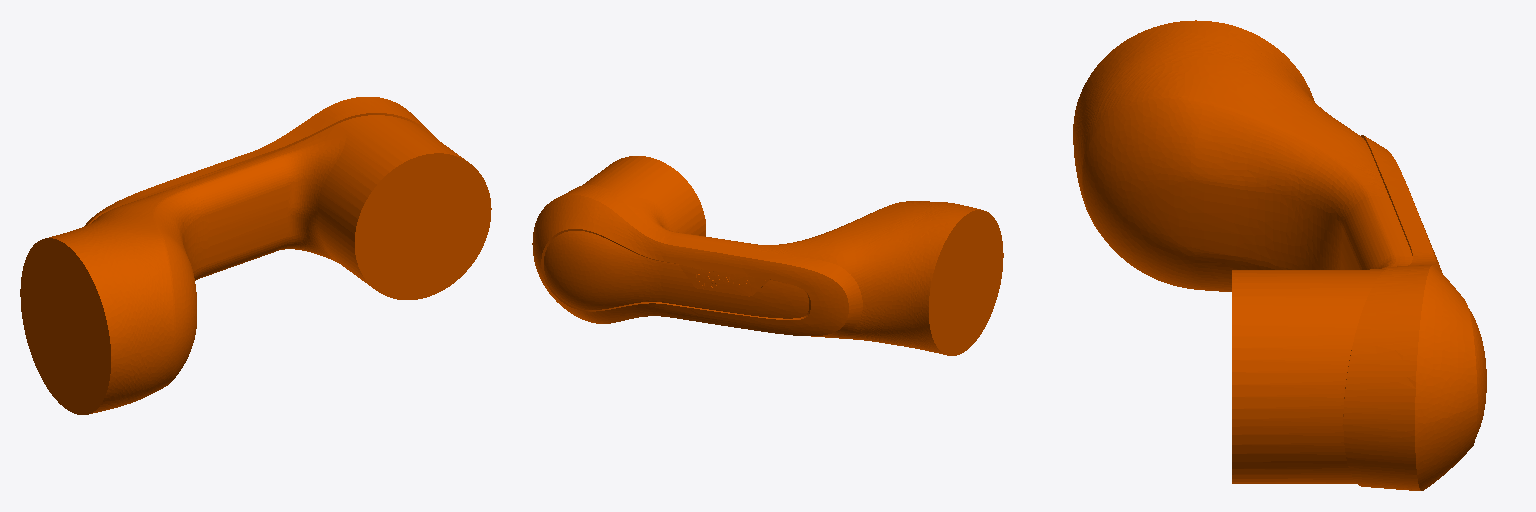
robot.urdf — panda:
<?xml version="1.0" encoding="utf-8"?>
<!-- =================================================================================== -->
<!-- |    This document is a hand edited version of the output autogenerated by xacro  | -->
<!-- |    from panda_arm_hand.urdf.xacro                                               | -->
<!-- |    The rotor inertias and gear ratios have been picked so that their            | -->
<!-- |    combination is equal to the reflected rotor interia provided by Franka for   | -->
<!-- |    the FR-3 robots.                                                             | -->
<!-- =================================================================================== -->
<robot xmlns:drake="http://drake.mit.edu" name="panda">
  <link name="panda_link0">
    <inertial>
      <mass value="2.92"/>
      <origin xyz="-0.025566 -2.88e-05 0.057332" rpy="0 0 0"/>
      <inertia ixx="0.00782229414331" ixy="-1.56191622996e-05" ixz="-0.00126005738123" iyy="0.0109027971813" iyz="1.08233858202e-05" izz="0.0102355503949"/>
    </inertial>
    <visual>
      <origin rpy="1.57079632679 0 0"/>
      <geometry>
        <mesh filename="../meshes/link0.obj"/>
      </geometry>
    </visual>
    <collision>
      <origin rpy="1.57079632679 0 0"/>
      <geometry>
        <mesh filename="../meshes/link0_simple.obj"/>
      </geometry>
      <drake:proximity_properties>
        <drake:rigid_hydroelastic/>
        <drake:mesh_resolution_hint value="1.5"/>
        <drake:hunt_crossley_dissipation value="1.25"/>
      </drake:proximity_properties>
    </collision>
  </link>
  <link name="panda_link1">
    <inertial>
      <mass value="2.74"/>
      <origin xyz="0 -0.0324958 -0.0675818" rpy="0 0 0"/>
      <inertia ixx="0.0180416958283" ixy="0.0" ixz="0.0" iyy="0.0159136071891" iyz="0.0046758424612" izz="0.00620690827127"/>
    </inertial>
    <visual>
      <origin rpy="1.57079632679 0 0"/>
      <geometry>
        <mesh filename="../meshes/link1.obj"/>
      </geometry>
    </visual>
    <collision>
      <origin rpy="1.57079632679 0 0"/>
      <geometry>
        <mesh filename="../meshes/link1_simple.obj"/>
      </geometry>
      <drake:proximity_properties>
        <drake:rigid_hydroelastic/>
        <drake:mesh_resolution_hint value="1.5"/>
        <drake:hunt_crossley_dissipation value="1.25"/>
      </drake:proximity_properties>
    </collision>
  </link>
  <joint name="panda_joint1" type="revolute">
    <origin rpy="0 0 0" xyz="0 0 0.333"/>
    <parent link="panda_link0"/>
    <child link="panda_link1"/>
    <axis xyz="0 0 1"/>
    <limit effort="87" lower="-2.8973" upper="2.8973" velocity="2.1750"/>
  </joint>
  <link name="panda_link2">
    <inertial>
      <mass value="2.74"/>
      <origin xyz="0 -0.06861 0.0322285" rpy="0 0 0"/>
      <inertia ixx="0.0182856182281" ixy="0.0" ixz="0.0" iyy="0.00621358421175" iyz="-0.00472844221905" izz="0.0161514346309"/>
    </inertial>
    <visual>
      <origin rpy="1.57079632679 0 0"/>
      <geometry>
        <mesh filename="../meshes/link2.obj"/>
      </geometry>
    </visual>
    <collision>
      <origin rpy="1.57079632679 0 0"/>
      <geometry>
        <mesh filename="../meshes/link2_simple.obj"/>
      </geometry>
      <drake:proximity_properties>
        <drake:rigid_hydroelastic/>
        <drake:mesh_resolution_hint value="1.5"/>
        <drake:hunt_crossley_dissipation value="1.25"/>
      </drake:proximity_properties>
    </collision>
  </link>
  <joint name="panda_joint2" type="revolute">
    <origin rpy="-1.57079632679 0 0" xyz="0 0 0"/>
    <parent link="panda_link1"/>
    <child link="panda_link2"/>
    <axis xyz="0 0 1"/>
    <limit effort="87" lower="-1.7628" upper="1.7628" velocity="2.1750"/>
  </joint>
  <link name="panda_link3">
    <inertial>
      <mass value="2.38"/>
      <origin xyz="0.0469893 0.0316374 -0.031704" rpy="0 0 0"/>
      <inertia ixx="0.00771376630908" ixy="-0.00248490625138" ixz="-0.00332147581033" iyy="0.00989108008727" iyz="-0.00217796151484" izz="0.00811723558464"/>
    </inertial>
    <visual>
      <origin rpy="1.57079632679 0 0"/>
      <geometry>
        <mesh filename="../meshes/link3.obj"/>
      </geometry>
    </visual>
    <collision>
      <origin rpy="1.57079632679 0 0"/>
      <geometry>
        <mesh filename="../meshes/link3_simple.obj"/>
      </geometry>
      <drake:proximity_properties>
        <drake:rigid_hydroelastic/>
        <drake:mesh_resolution_hint value="1.5"/>
        <drake:hunt_crossley_dissipation value="1.25"/>
      </drake:proximity_properties>
    </collision>
  </link>
  <joint name="panda_joint3" type="revolute">
    <origin rpy="1.57079632679 0 0" xyz="0 -0.316 0"/>
    <parent link="panda_link2"/>
    <child link="panda_link3"/>
    <axis xyz="0 0 1"/>
    <limit effort="87" lower="-2.8973" upper="2.8973" velocity="2.1750"/>
  </joint>
  <link name="panda_link4">
    <inertial>
      <mass value="2.38"/>
      <origin xyz="-0.0360446 0.0336853 0.031882" rpy="0 0 0"/>
      <inertia ixx="0.00799663881132" ixy="0.00347095570217" ixz="-0.00241222942995" iyy="0.00825390705278" iyz="0.00235774044121" izz="0.0102515004345"/>
    </inertial>
    <visual>
      <origin rpy="1.57079632679 0 0"/>
      <geometry>
        <mesh filename="../meshes/link4.obj"/>
      </geometry>
    </visual>
    <collision>
      <origin rpy="1.57079632679 0 0"/>
      <geometry>
        <mesh filename="../meshes/link4_simple.obj"/>
      </geometry>
      <drake:proximity_properties>
        <drake:rigid_hydroelastic/>
        <drake:mesh_resolution_hint value="1.5"/>
        <drake:hunt_crossley_dissipation value="1.25"/>
      </drake:proximity_properties>
    </collision>
  </link>
  <joint name="panda_joint4" type="revolute">
    <origin rpy="1.57079632679 0 0" xyz="0.0825 0 0"/>
    <parent link="panda_link3"/>
    <child link="panda_link4"/>
    <axis xyz="0 0 1"/>
    <limit effort="87" lower="-3.0718" upper="-0.0698" velocity="2.1750"/>
  </joint>
  <link name="panda_link5">
    <inertial>
      <mass value="2.74"/>
      <origin xyz="0 0.0610427 -0.104176" rpy="0 0 0"/>
      <inertia ixx="0.030371374513" ixy="6.50283587108e-07" ixz="-1.05129179916e-05" iyy="0.0288752887402" iyz="-0.00775653445787" izz="0.00444134056164"/>
    </inertial>
    <visual>
      <origin rpy="1.57079632679 0 0"/>
      <geometry>
        <mesh filename="../meshes/link5.obj"/>
      </geometry>
    </visual>
    <collision>
      <origin rpy="1.57079632679 0 0"/>
      <geometry>
        <mesh filename="../meshes/link5_simple.obj"/>
      </geometry>
      <drake:proximity_properties>
        <drake:rigid_hydroelastic/>
        <drake:mesh_resolution_hint value="1.5"/>
        <drake:hunt_crossley_dissipation value="1.25"/>
      </drake:proximity_properties>
    </collision>
  </link>
  <joint name="panda_joint5" type="revolute">
    <origin rpy="-1.57079632679 0 0" xyz="-0.0825 0.384 0"/>
    <parent link="panda_link4"/>
    <child link="panda_link5"/>
    <axis xyz="0 0 1"/>
    <limit effort="12" lower="-2.8973" upper="2.8973" velocity="2.6100"/>
  </joint>
  <link name="panda_link6">
    <inertial>
      <mass value="1.55"/>
      <origin xyz="0.0510509 0.009108 0.0106343" rpy="0 0 0"/>
      <inertia ixx="0.00303336450376" ixy="-0.000437276865508" ixz="0.000629257294877" iyy="0.00404479911567" iyz="0.000130472021025" izz="0.00558234286039"/>
    </inertial>
    <visual>
      <origin rpy="1.57079632679 0 0"/>
      <geometry>
        <mesh filename="../meshes/link6.obj"/>
      </geometry>
    </visual>
    <collision>
      <origin rpy="1.57079632679 0 0"/>
      <geometry>
        <mesh filename="../meshes/link6_simple.obj"/>
      </geometry>
      <drake:proximity_properties>
        <drake:rigid_hydroelastic/>
        <drake:mesh_resolution_hint value="1.5"/>
        <drake:hunt_crossley_dissipation value="1.25"/>
      </drake:proximity_properties>
    </collision>
  </link>
  <joint name="panda_joint6" type="revolute">
    <origin rpy="1.57079632679 0 0" xyz="0 0 0"/>
    <parent link="panda_link5"/>
    <child link="panda_link6"/>
    <axis xyz="0 0 1"/>
    <limit effort="12" lower="-0.0175" upper="3.7525" velocity="2.610"/>
  </joint>
  <link name="panda_link7">
    <inertial>
      <mass value="0.54"/>
      <origin xyz="0.0109695 0.0107965 0.0650411" rpy="0 0 0"/>
      <inertia ixx="0.000888868887021" ixy="-0.00012239074652" ixz="3.98699829666e-05" iyy="0.000888001373233" iyz="-9.33825115206e-05" izz="0.0007176834609"/>
    </inertial>
    <visual>
      <origin rpy="1.57079632679 0 0"/>
      <geometry>
        <mesh filename="../meshes/link7.obj"/>
      </geometry>
    </visual>
    <collision>
      <origin rpy="1.57079632679 0 0"/>
      <geometry>
        <mesh filename="../meshes/link7_simple.obj"/>
      </geometry>
      <drake:proximity_properties>
        <drake:rigid_hydroelastic/>
        <drake:mesh_resolution_hint value="1.5"/>
        <drake:hunt_crossley_dissipation value="1.25"/>
      </drake:proximity_properties>
    </collision>
  </link>
  <joint name="panda_joint7" type="revolute">
    <origin rpy="1.57079632679 0 0" xyz="0.088 0 0"/>
    <parent link="panda_link6"/>
    <child link="panda_link7"/>
    <axis xyz="0 0 1"/>
    <limit effort="12" lower="-2.8973" upper="2.8973" velocity="2.610"/>
  </joint>
  <joint name="panda_hand_joint" type="fixed">
    <origin rpy="0 0 -0.785398163397" xyz="0 0 0.107"/>
    <parent link="panda_link7"/>
    <child link="panda_hand"/>
  </joint>
  <transmission name="panda_tran1">
    <type>transmission_interface/SimpleTransmission</type>
    <joint name="panda_joint1">
      <hardwareInterface>PositionJointInterface</hardwareInterface>
    </joint>
    <actuator name="panda_motor1">
      <hardwareInterface>PositionJointInterface</hardwareInterface>
      <mechanicalReduction>1</mechanicalReduction>
      <drake:gear_ratio value="100.0" />
      <drake:rotor_inertia value="0.0000605721456" />
    </actuator>
  </transmission>
  <transmission name="panda_tran2">
    <type>transmission_interface/SimpleTransmission</type>
    <joint name="panda_joint2">
      <hardwareInterface>PositionJointInterface</hardwareInterface>
    </joint>
    <actuator name="panda_motor2">
      <hardwareInterface>PositionJointInterface</hardwareInterface>
      <mechanicalReduction>1</mechanicalReduction>
      <drake:gear_ratio value="100.0" />
      <drake:rotor_inertia value="0.0000605721456" />
    </actuator>
  </transmission>
  <transmission name="panda_tran3">
    <type>transmission_interface/SimpleTransmission</type>
    <joint name="panda_joint3">
      <hardwareInterface>PositionJointInterface</hardwareInterface>
    </joint>
    <actuator name="panda_motor3">
      <hardwareInterface>PositionJointInterface</hardwareInterface>
      <mechanicalReduction>1</mechanicalReduction>
      <drake:gear_ratio value="100.0" />
      <drake:rotor_inertia value="0.0000462474144" />
    </actuator>
  </transmission>
  <transmission name="panda_tran4">
    <type>transmission_interface/SimpleTransmission</type>
    <joint name="panda_joint4">
      <hardwareInterface>PositionJointInterface</hardwareInterface>
    </joint>
    <actuator name="panda_motor4">
      <hardwareInterface>PositionJointInterface</hardwareInterface>
      <mechanicalReduction>1</mechanicalReduction>
      <drake:gear_ratio value="100.0" />
      <drake:rotor_inertia value="0.0000462474144" />
    </actuator>
  </transmission>
  <transmission name="panda_tran5">
    <type>transmission_interface/SimpleTransmission</type>
    <joint name="panda_joint5">
      <hardwareInterface>PositionJointInterface</hardwareInterface>
    </joint>
    <actuator name="panda_motor5">
      <hardwareInterface>PositionJointInterface</hardwareInterface>
      <mechanicalReduction>1</mechanicalReduction>
      <drake:gear_ratio value="100.0" />
      <drake:rotor_inertia value="0.0000205544064" />
    </actuator>
  </transmission>
  <transmission name="panda_tran6">
    <type>transmission_interface/SimpleTransmission</type>
    <joint name="panda_joint6">
      <hardwareInterface>PositionJointInterface</hardwareInterface>
    </joint>
    <actuator name="panda_motor6">
      <hardwareInterface>PositionJointInterface</hardwareInterface>
      <mechanicalReduction>1</mechanicalReduction>
      <drake:gear_ratio value="100.0" />
      <drake:rotor_inertia value="0.0000205544064" />
    </actuator>
  </transmission>
  <transmission name="panda_tran7">
    <type>transmission_interface/SimpleTransmission</type>
    <joint name="panda_joint7">
      <hardwareInterface>PositionJointInterface</hardwareInterface>
    </joint>
    <actuator name="panda_motor7">
      <hardwareInterface>PositionJointInterface</hardwareInterface>
      <mechanicalReduction>1</mechanicalReduction>
      <drake:gear_ratio value="100.0" />
      <drake:rotor_inertia value="0.0000205544064" />
    </actuator>
  </transmission>
  <link name="panda_hand">
    <inertial>
      <mass value="0.73"/>
      <origin xyz="0 0.0015244 0.0275912" rpy="0 0 0"/>
      <inertia ixx="0.00278560230025" ixy="0.0" ixz="0.0" iyy="0.000400033405336" iyz="0.0" izz="0.00256378041832"/>
    </inertial>
    <visual>
      <origin rpy="1.57079632679 0 0"/>
      <geometry>
        <mesh filename="../meshes/hand.obj"/>
      </geometry>
    </visual>
    <collision>
      <origin rpy="1.57079632679 0 0"/>
      <geometry>
        <mesh filename="../meshes/hand_simple.obj"/>
      </geometry>
      <drake:proximity_properties>
        <drake:rigid_hydroelastic/>
        <drake:mesh_resolution_hint value="1.5"/>
        <drake:hunt_crossley_dissipation value="1.25"/>
      </drake:proximity_properties>
    </collision>
  </link>
  <link name="panda_leftfinger">
    <inertial>
      <mass value="0.1"/>
      <origin xyz="0 0.0145644 0.0227941" rpy="0 0 0"/>
      <inertia ixx="3.01220925051e-05" ixy="0.0" ixz="0.0" iyy="2.95873808038e-05" iyz="0.0" izz="6.95125211657e-06"/>
    </inertial>
    <visual>
      <origin rpy="1.57079632679 0 0"/>
      <geometry>
        <mesh filename="../meshes/finger.obj"/>
      </geometry>
    </visual>
    <collision>
      <origin rpy="1.57079632679 0 0"/>
      <geometry>
        <mesh filename="../meshes/finger_simple.obj"/>
      </geometry>
      <drake:proximity_properties>
        <drake:rigid_hydroelastic/>
        <drake:mesh_resolution_hint value="1.5"/>
        <drake:hunt_crossley_dissipation value="1.25"/>
      </drake:proximity_properties>
    </collision>
  </link>
  <link name="panda_rightfinger">
    <inertial>
      <mass value="0.1"/>
      <origin xyz="0 0.0145644 0.0227941" rpy="0 0 3.14159265359"/>
      <inertia ixx="3.01220925051e-05" ixy="0.0" ixz="0.0" iyy="2.95873808038e-05" iyz="0.0" izz="6.95125211657e-06"/>
    </inertial>
    <visual>
      <origin rpy="1.57079632679 0 3.14159265359" xyz="0 0 0"/>
      <geometry>
        <mesh filename="../meshes/finger.obj"/>
      </geometry>
    </visual>
    <collision>
      <origin rpy="1.57079632679 0 3.14159265359" xyz="0 0 0"/>
      <geometry>
        <mesh filename="../meshes/finger_simple.obj"/>
      </geometry>
      <drake:proximity_properties>
        <drake:rigid_hydroelastic/>
        <drake:mesh_resolution_hint value="1.5"/>
        <drake:hunt_crossley_dissipation value="1.25"/>
      </drake:proximity_properties>
    </collision>
  </link>
  <joint name="panda_finger_joint1" type="fixed">
    <parent link="panda_hand"/>
    <child link="panda_leftfinger"/>
    <origin rpy="0 0 0" xyz="0 0 0.0584"/>
    <axis xyz="0 1 0"/>
    <!-- <limit effort="20" lower="0.0" upper="0.04" velocity="0.2"/> -->
  </joint>
  <joint name="panda_finger_joint2" type="fixed">
    <parent link="panda_hand"/>
    <child link="panda_rightfinger"/>
    <origin rpy="0 0 0" xyz="0 0 0.0584"/>
    <axis xyz="0 -1 0"/>
    <!-- <limit effort="20" lower="0.0" upper="0.04" velocity="0.2"/> -->
  </joint>
  <!-- <transmission name="panda_finger_tran1">
    <type>transmission_interface/SimpleTransmission</type>
    <joint name="panda_finger_joint1">
      <hardwareInterface>PositionJointInterface</hardwareInterface>
    </joint>
    <actuator name="panda_finger_motor1">
      <hardwareInterface>PositionJointInterface</hardwareInterface>
      <mechanicalReduction>1</mechanicalReduction>
    </actuator>
  </transmission>
  <transmission name="panda_finger_tran2">
    <type>transmission_interface/SimpleTransmission</type>
    <joint name="panda_finger_joint2">
      <hardwareInterface>PositionJointInterface</hardwareInterface>
    </joint>
    <actuator name="panda_finger_motor2">
      <hardwareInterface>PositionJointInterface</hardwareInterface>
      <mechanicalReduction>1</mechanicalReduction>
    </actuator>
  </transmission> -->
  <!-- <drake:collision_filter_group name="group_link57">
    <drake:member link="panda_link5"/>
    <drake:member link="panda_link7"/>
    <drake:ignored_collision_filter_group name="group_link57"/>
  </drake:collision_filter_group> -->
  <!-- <drake:collision_filter_group name="group_link68">
    <drake:member link="panda_link6"/>
    <drake:member link="panda_link8"/>
    <drake:ignored_collision_filter_group name="group_link68"/>
  </drake:collision_filter_group> -->
  <drake:collision_filter_group name="all">
    <drake:member link="panda_link0"/>
    <drake:member link="panda_link1"/>
    <drake:member link="panda_link2"/>
    <drake:member link="panda_link3"/>
    <drake:member link="panda_link4"/>
    <drake:member link="panda_link5"/>
    <drake:member link="panda_link6"/>
    <drake:member link="panda_link7"/>
    <drake:member link="panda_hand"/>
    <drake:member link="panda_rightfinger"/>
    <drake:member link="panda_leftfinger"/>
    <drake:ignored_collision_filter_group name="all"/>
  </drake:collision_filter_group>

</robot>

--- Facts derived from the render (not from the file) ---
The picture shows the robot from 3 angles, left to right: view 1: azimuth 30°, elevation 25°; view 2: azimuth 150°, elevation 25°; view 3: azimuth 270°, elevation 25°; orthographic projection.
Model panda with 11 links and 10 joints (7 revolute, 3 fixed), rooted at panda_link0, posed joints at zero except 1 at the middle of their limits (panda_joint4 = -1.57).
Links seen in each view (by area): view 1: panda_link5; view 2: panda_link5; view 3: panda_link5.
Boxes of the visible links, x1,y1,x2,y2 form: panda_link5: (20,97,491,414); panda_link5: (532,156,1003,355); panda_link5: (1073,20,1486,490).
Bounding box of the posed robot: 0.3112 × 0.1849 × 0.11 m (x, y, z).
Meshes: 10 distinct files referenced, 1 mesh visuals loaded (1 OBJ); not drawn: 10 (reference not matched to a file when rendering).